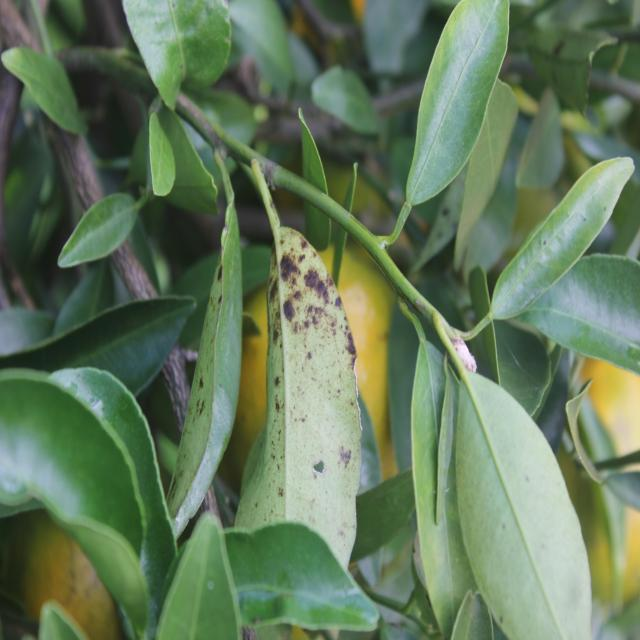melanose: (250, 222, 370, 556), (150, 196, 242, 521)
